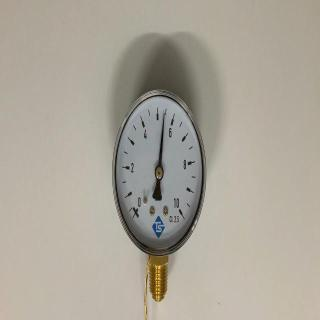gauge: (108, 79, 210, 277), (168, 196, 192, 224), (127, 205, 145, 223), (154, 166, 164, 179), (160, 111, 166, 121)
